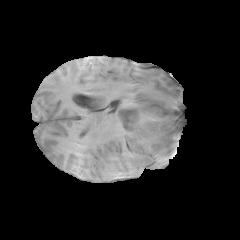glioma: (115, 99, 181, 177)
